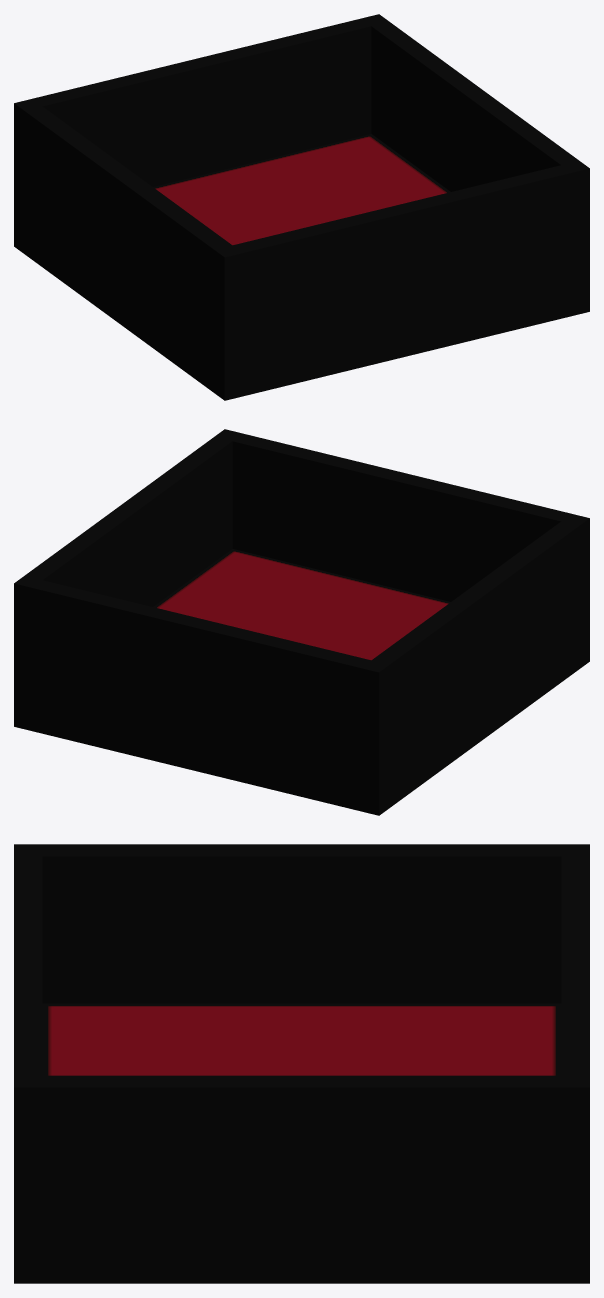
The model's file is board.glb.
The picture shows the model from 3 angles, top to bottom: view 1: azimuth 30°, elevation 25°; view 2: azimuth 150°, elevation 25°; view 3: azimuth 270°, elevation 25°; orthographic projection. The views are drawn at different scales.
Parts seen in each view (by area): view 1: Cube; view 2: Cube; view 3: Cube.
Part boxes in pixels (box(x1,y1,x2,y2)): Cube: box(14, 14, 589, 400); Cube: box(14, 429, 589, 815); Cube: box(14, 844, 589, 1283).
Bounding box in the file's own units: 8 × 3 × 8.
Materials: 1 (1 with a texture image).
